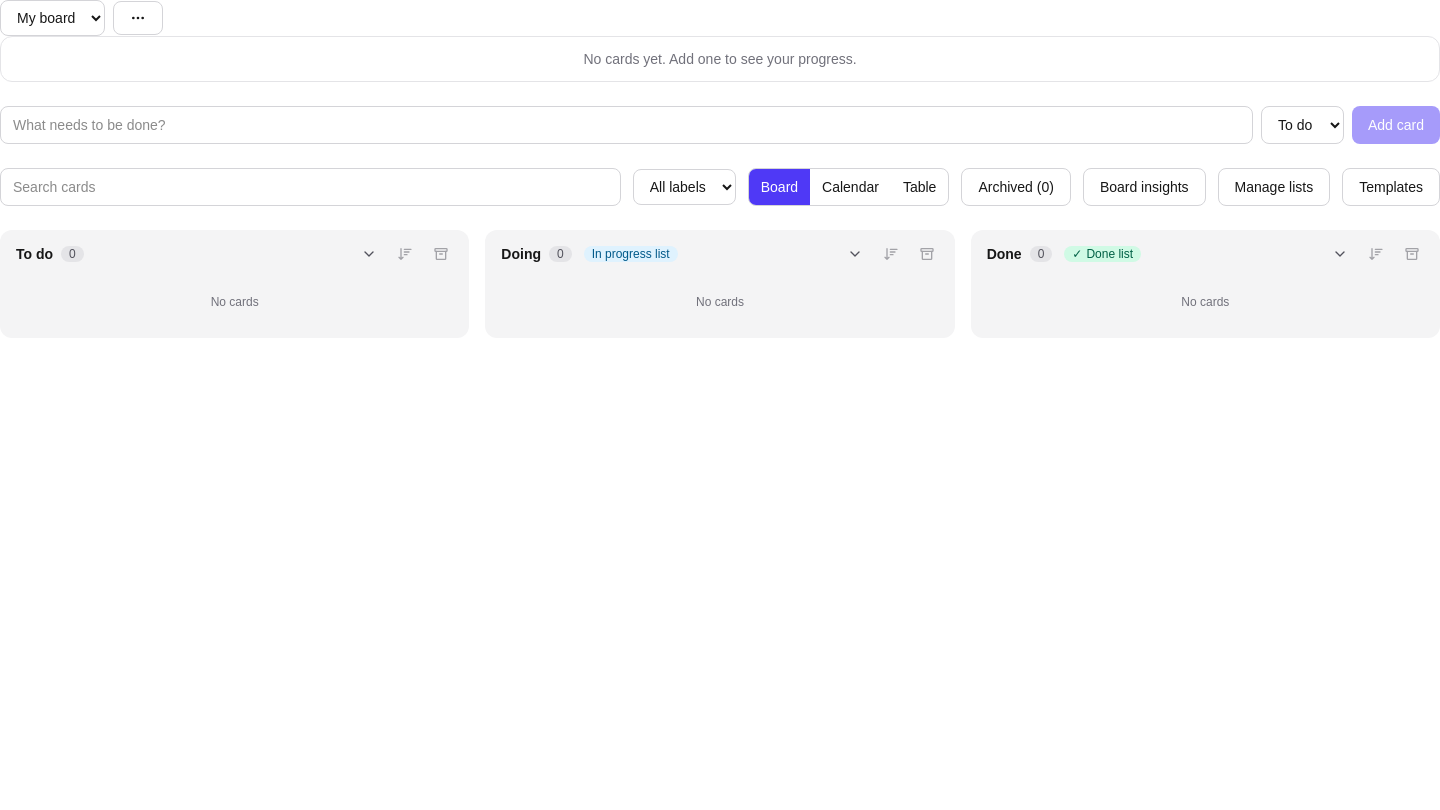
Scenario: <BoardSwitcher /> › create › shows the character limit and creates an empty current board
This screenshot has width=1440, height=810.
Click the button named "Board actions". click: (138, 18)
box: [113,1,163,35]
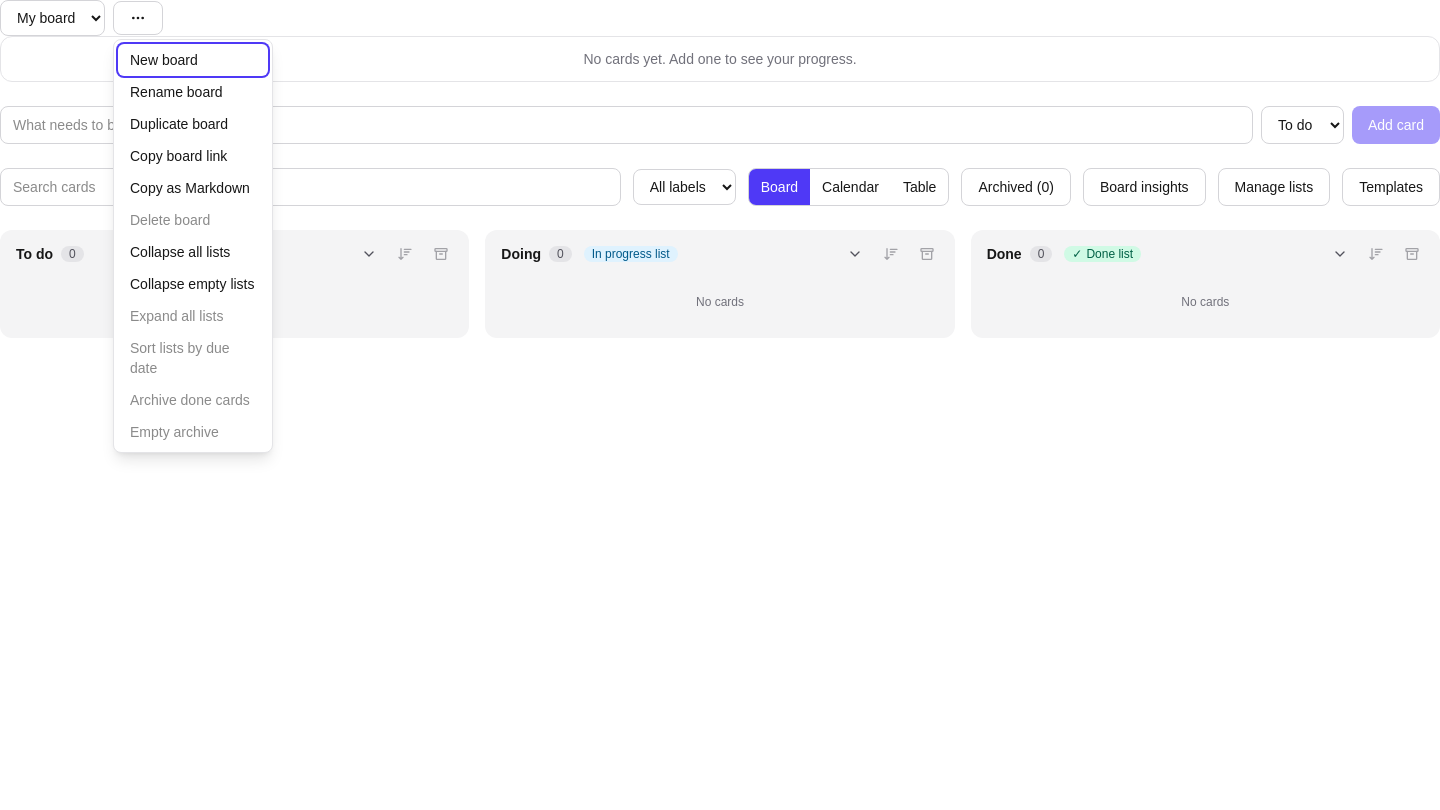
Click the menu item "New board". click: (193, 60)
box: [118,44,268,76]
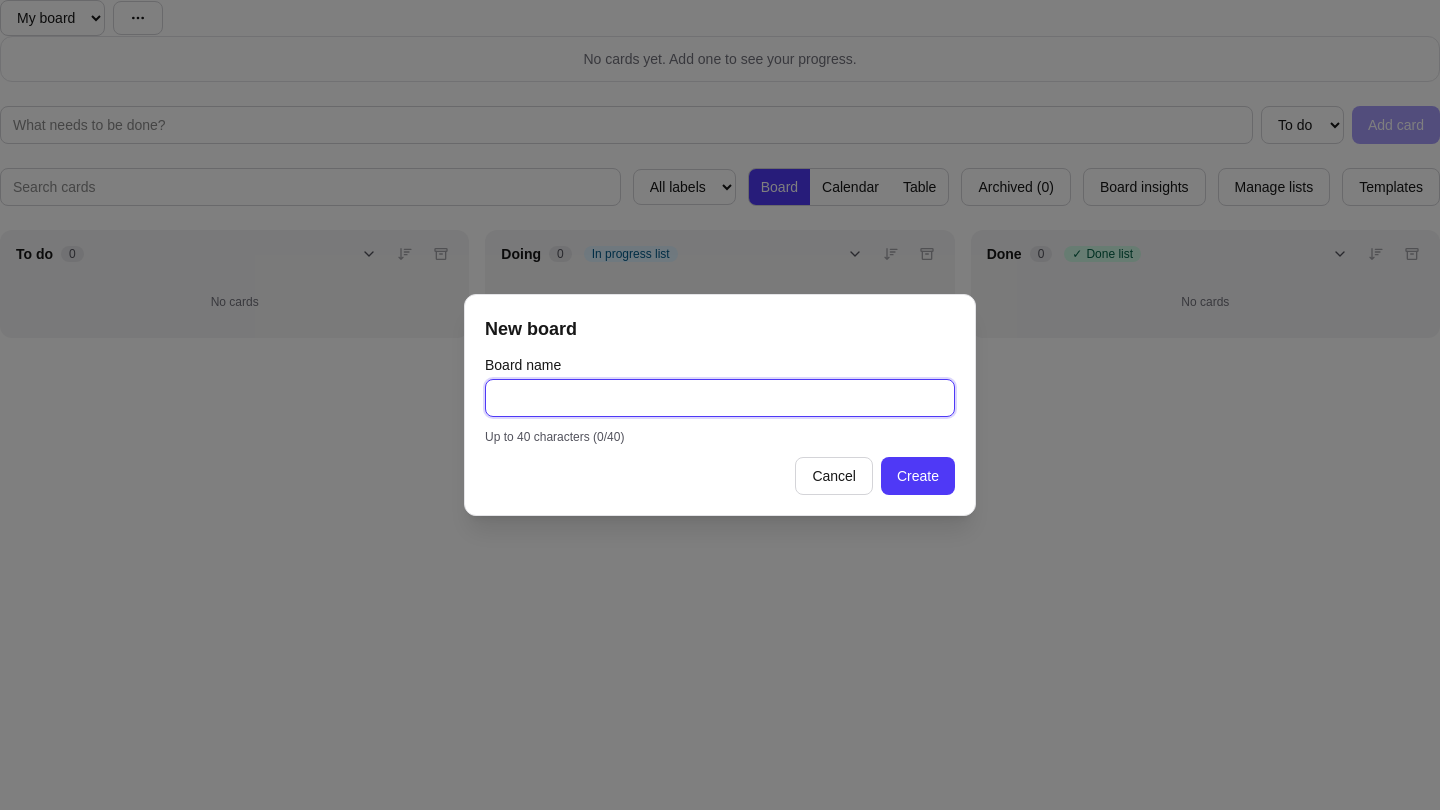
expect the text "Up to 40 characters (0/40)" is shown: met, box [485,430,624,444]
Type "Work" into the field labelled "Board name". click: (720, 398)
box: [485,379,955,417]
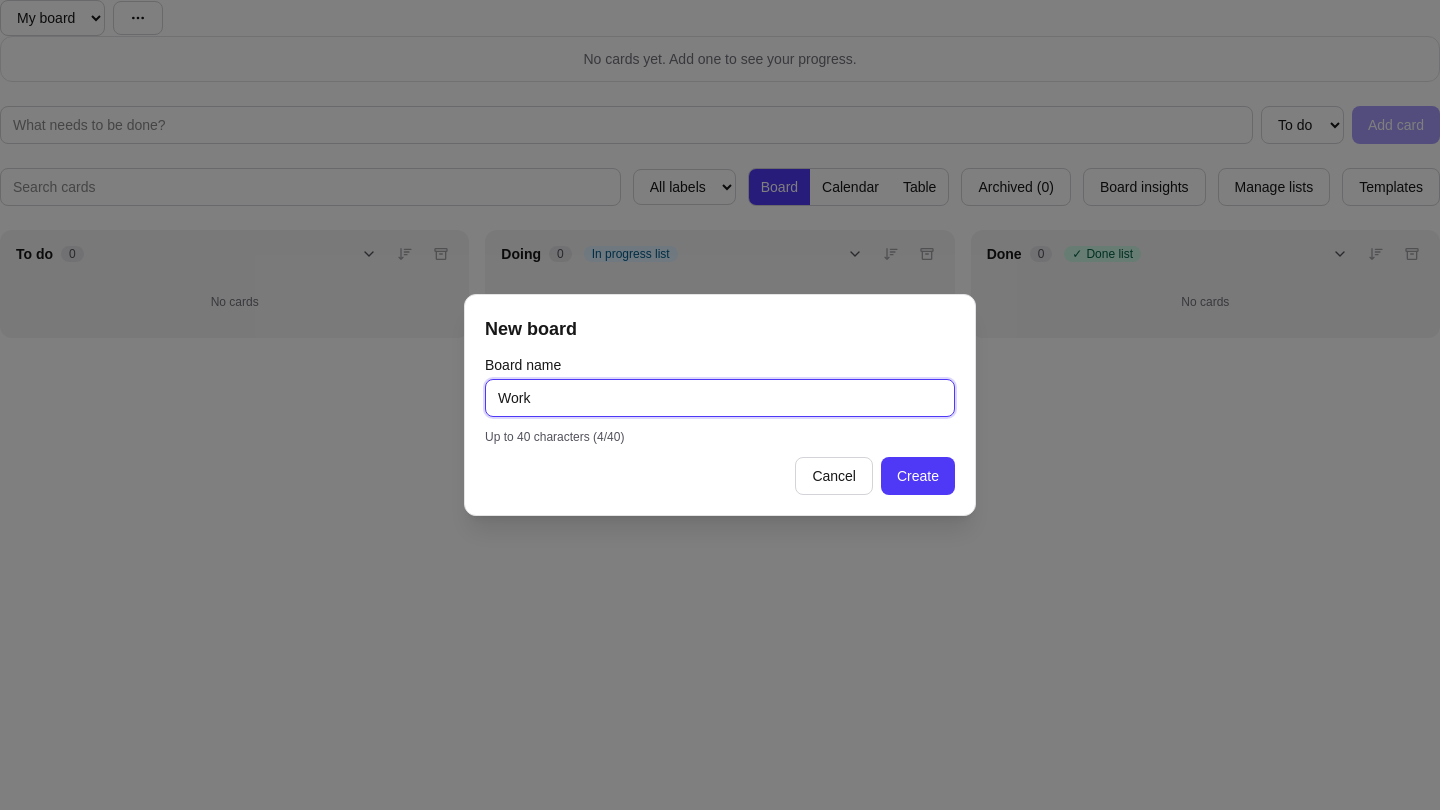
Click the button "Create". click: (918, 476)
box: [881,457,955,495]
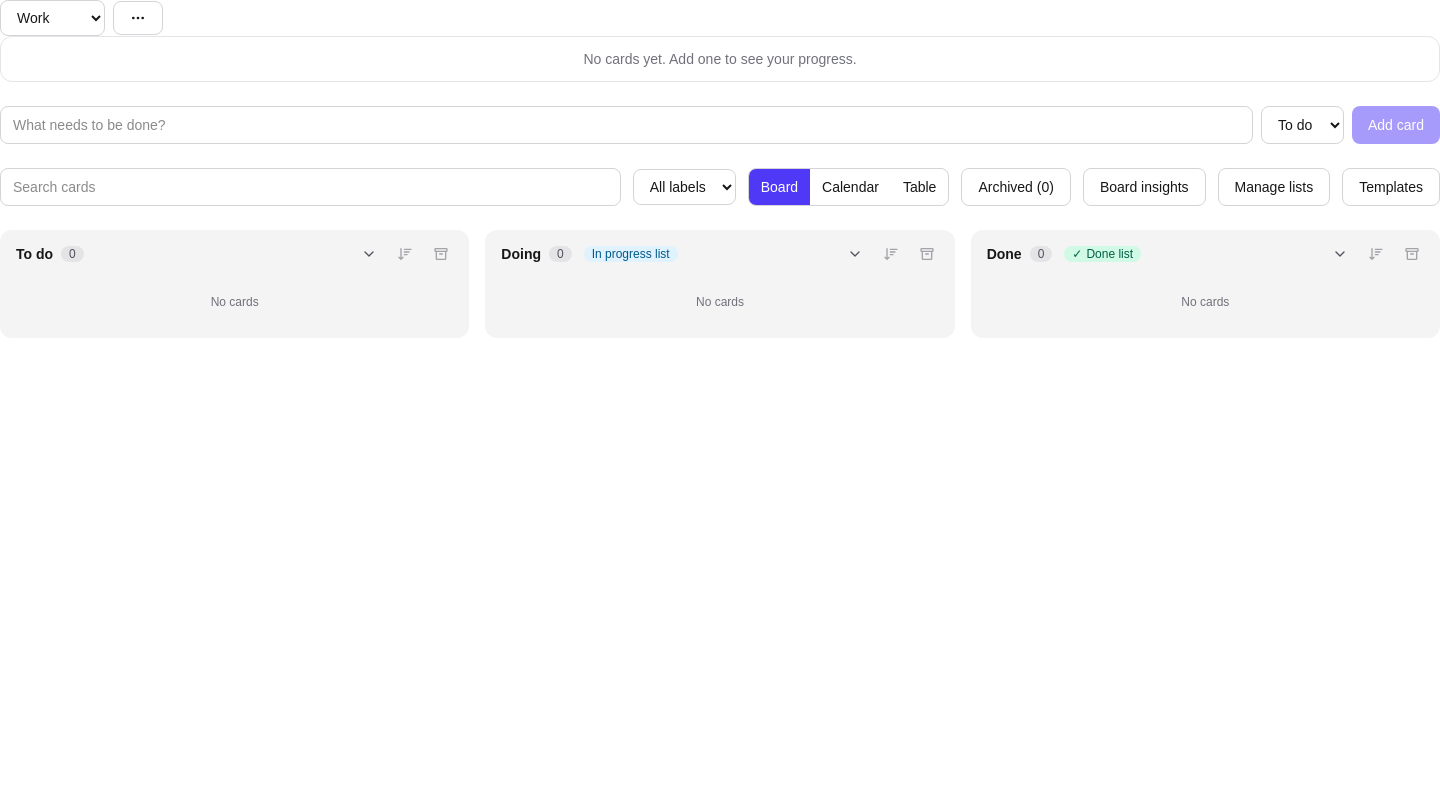
expect the element "To do 0 No cards" is shown: met, box [0,230,469,338]
expect the dialog is gone: met
